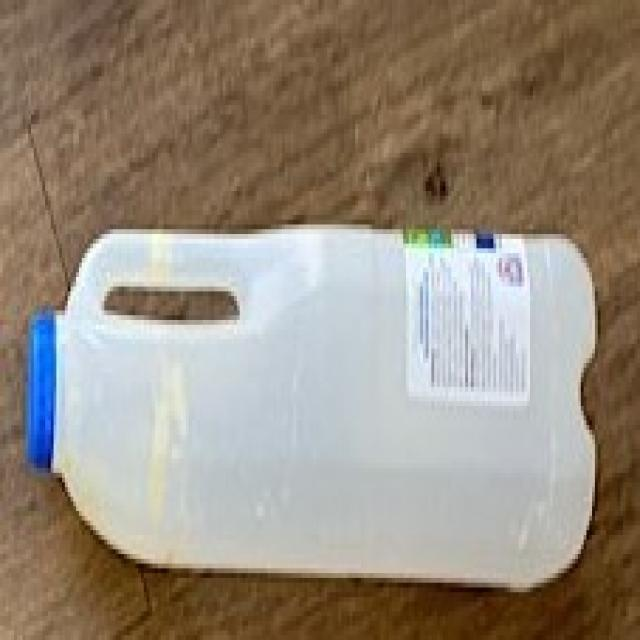HDPE Plastic: (16, 218, 606, 595)
